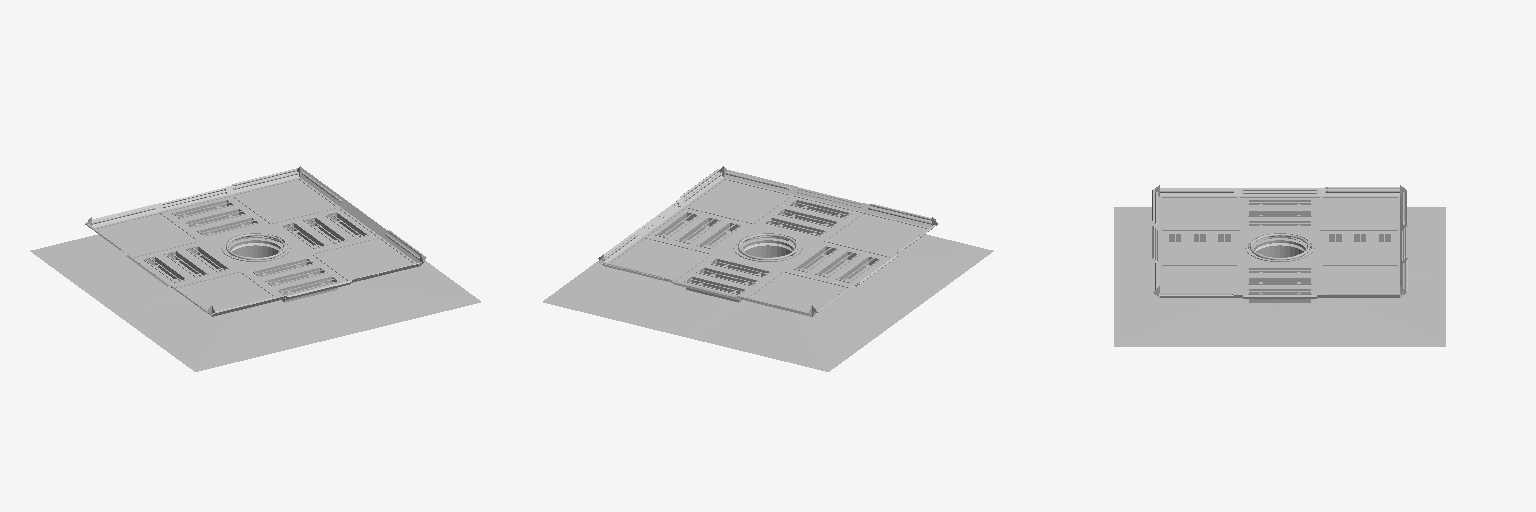
Rendered from WallZero_high.obj.
The picture shows the model from 3 angles: view 1: azimuth 30°, elevation 25°; view 2: azimuth 150°, elevation 25°; view 3: azimuth 270°, elevation 25°; orthographic projection.
Visible parts, largest first — view 1: Wall_high_Cube.001; view 2: Wall_high_Cube.001; view 3: Wall_high_Cube.001, PanelLight_high_Cube.002.
Part boxes in pixels (left/top/right/bottom): Wall_high_Cube.001: left=30, top=166, right=480, bottom=371; Wall_high_Cube.001: left=543, top=166, right=993, bottom=371; Wall_high_Cube.001: left=1114, top=185, right=1445, bottom=346; PanelLight_high_Cube.002: left=1169, top=244, right=1390, bottom=257.
Bounding box in the file's own units: 2.48 × 0.34 × 2.48.